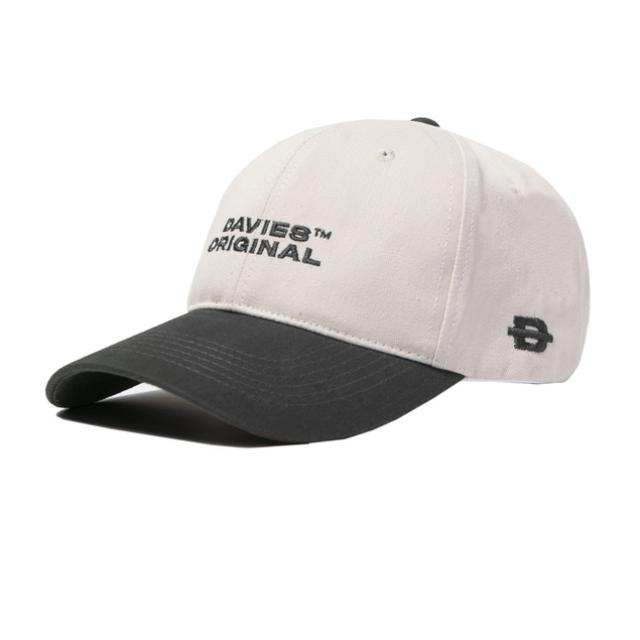Nonhelmet: (43, 112, 593, 447)
